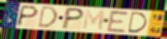D: (37, 5, 59, 29), (127, 11, 149, 34)
E: (106, 10, 131, 34)
M: (81, 9, 106, 31)
P: (60, 7, 86, 30), (15, 5, 41, 28)
